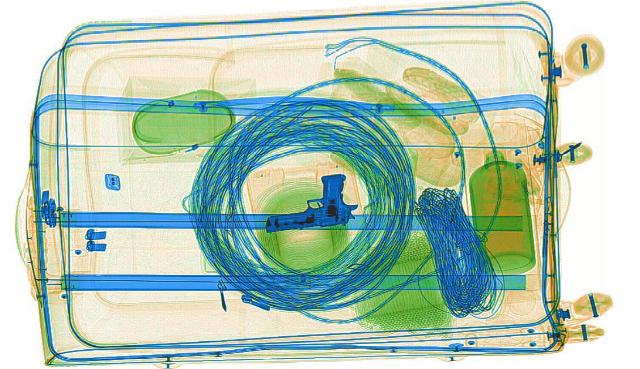Gun: (258, 172, 354, 229)
